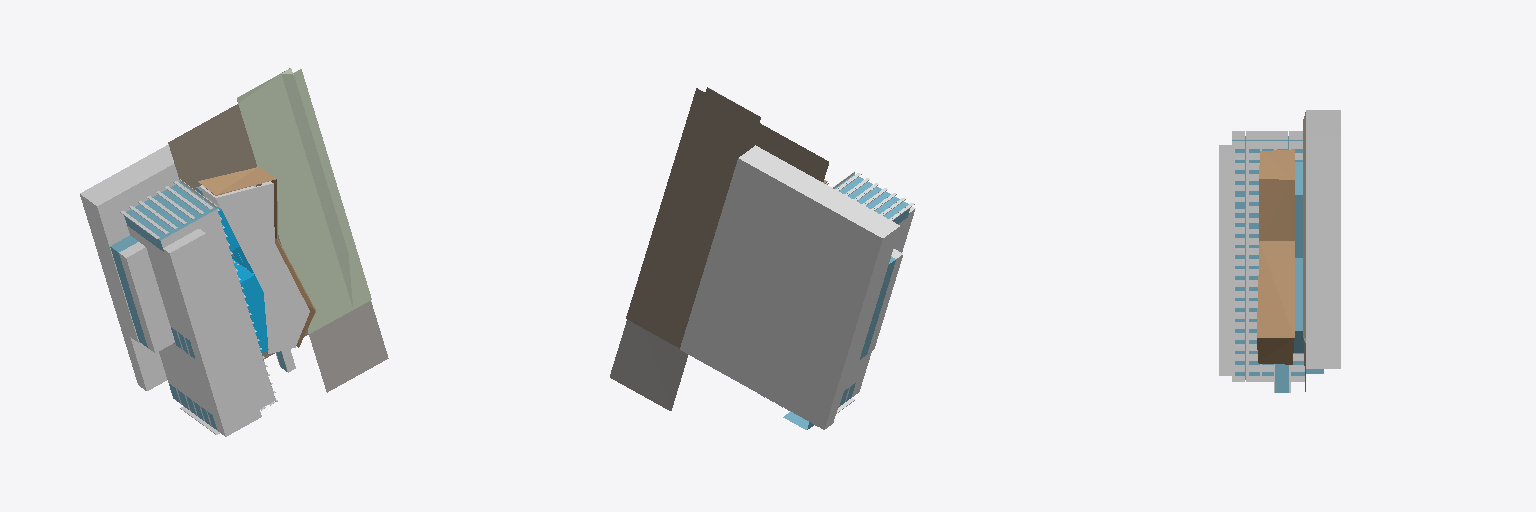
Rendered from opt2-99.obj.
The picture shows the model from 3 angles: view 1: azimuth 30°, elevation 25°; view 2: azimuth 150°, elevation 25°; view 3: azimuth 270°, elevation 25°; orthographic projection.
Bounding box in the file's own units: 345 × 378 × 126.